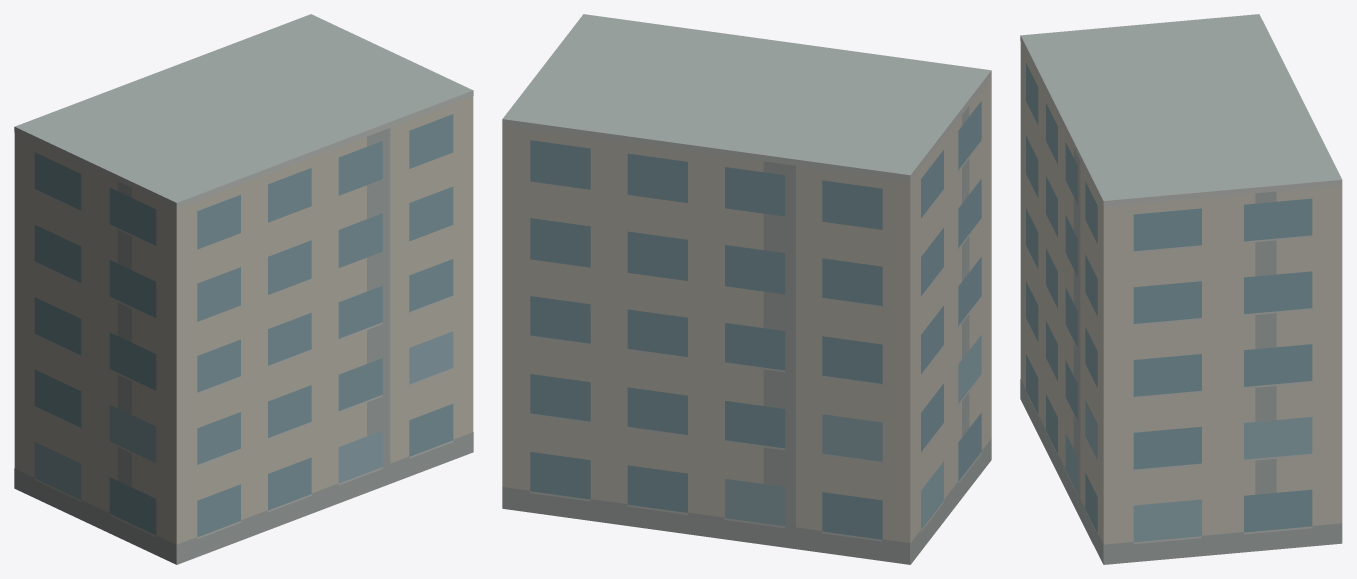
The model's file is residential-8095fc87-9b3a-4b8c-ab86-3fd1cfc2f3fe.glb.
3 views of the same model, side by side, from view 1: azimuth 30°, elevation 25°; view 2: azimuth 150°, elevation 25°; view 3: azimuth 270°, elevation 25° (orthographic). The views are drawn at different scales.
Parts seen in each view (by area): view 1: residential-8095fc87-9b3a-4b8c-ab86-3fd1cfc2f3fe.tmp; view 2: residential-8095fc87-9b3a-4b8c-ab86-3fd1cfc2f3fe.tmp; view 3: residential-8095fc87-9b3a-4b8c-ab86-3fd1cfc2f3fe.tmp.
Boxes of the visible parts, bbox=[...] form: residential-8095fc87-9b3a-4b8c-ab86-3fd1cfc2f3fe.tmp: bbox=[14, 14, 473, 564]; residential-8095fc87-9b3a-4b8c-ab86-3fd1cfc2f3fe.tmp: bbox=[502, 14, 991, 564]; residential-8095fc87-9b3a-4b8c-ab86-3fd1cfc2f3fe.tmp: bbox=[1020, 14, 1342, 564].
Size of the model in its own units: 16.83 by 15.25 by 12.23.
